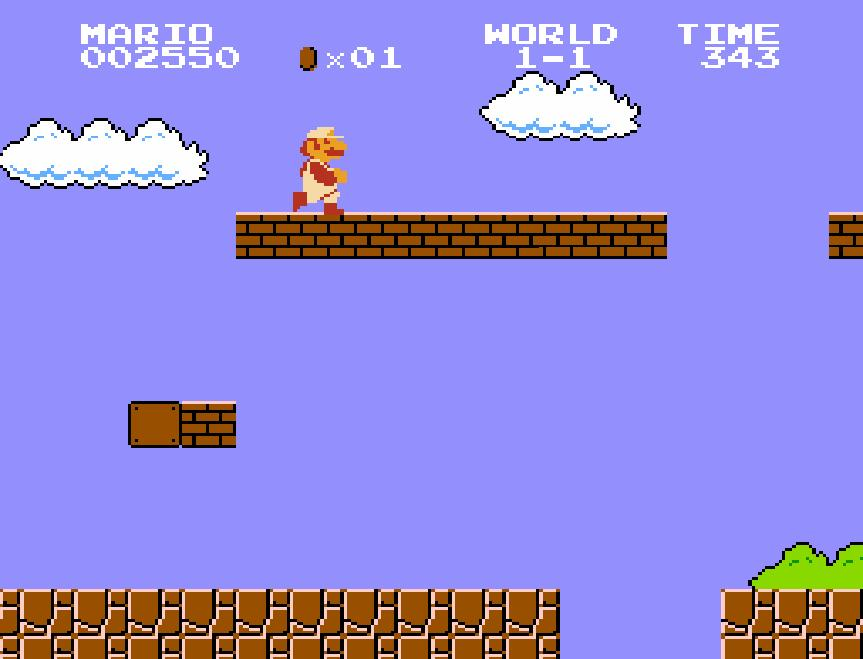fire_mario: (291, 118, 349, 216)
